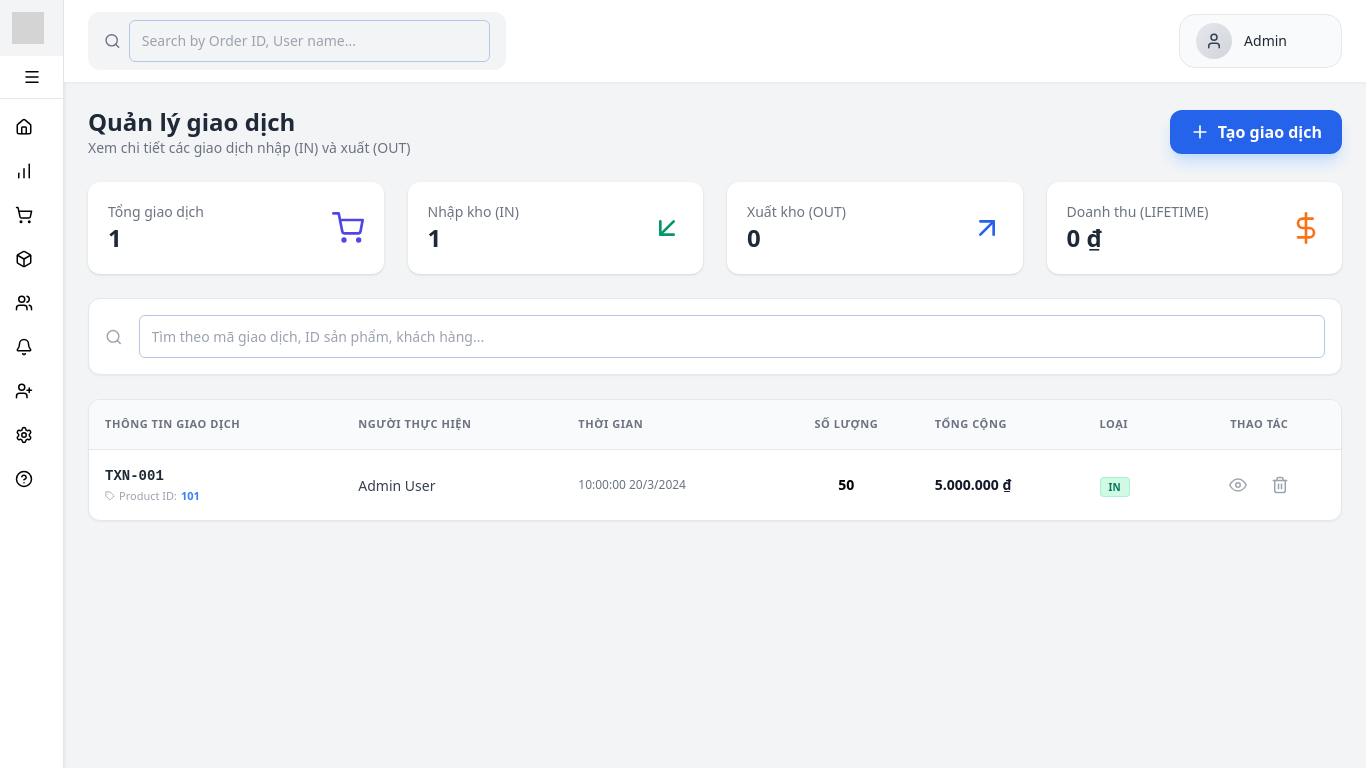
it: TransactionDashboard (Final Fix) › nên lọc dữ liệu khi nhập vào ô tìm kiếm
In the field with placeholder "Tìm theo mã giao dịch, ID sản phẩm, khách hàng...": (732, 336) x1=138 y1=315 x2=1325 y2=358, type "KHONG-TON-TAI"
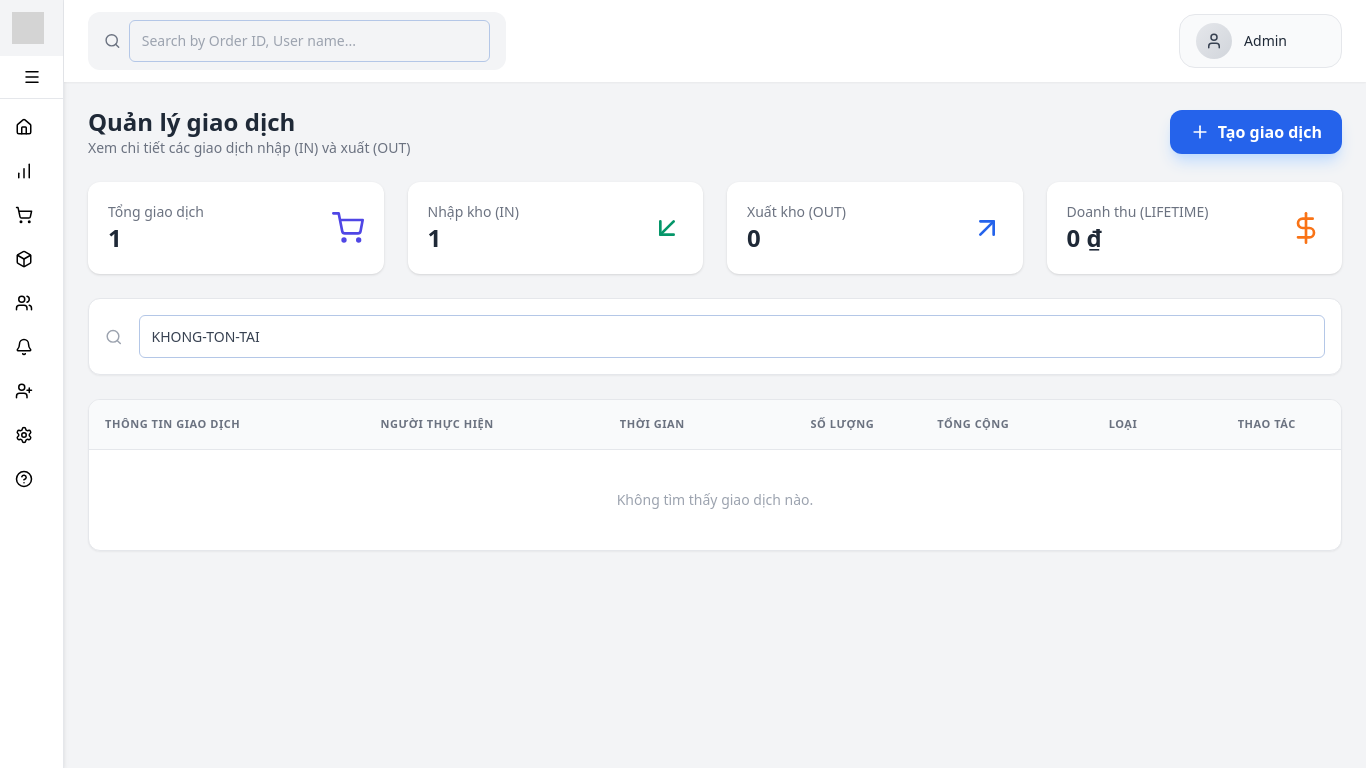
Expected: the text "Không tìm thấy giao dịch nào." is shown, x1=89 y1=449 x2=1341 y2=550
